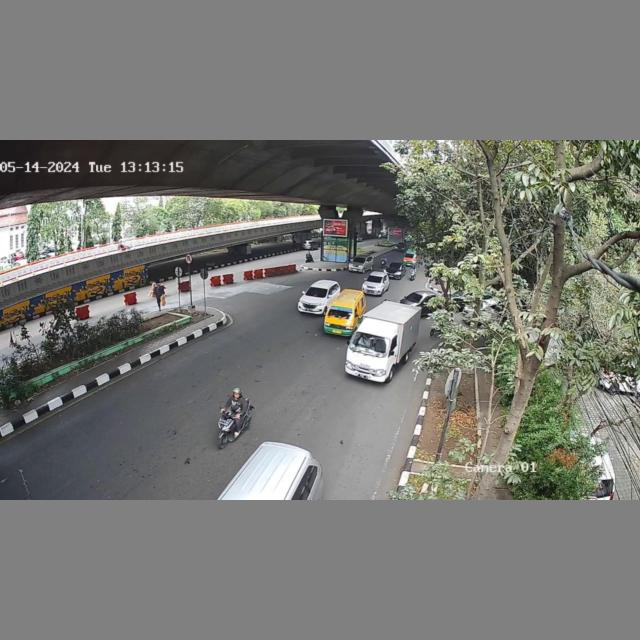windshield: (352, 331, 390, 358), (326, 305, 355, 329), (305, 286, 331, 298)
